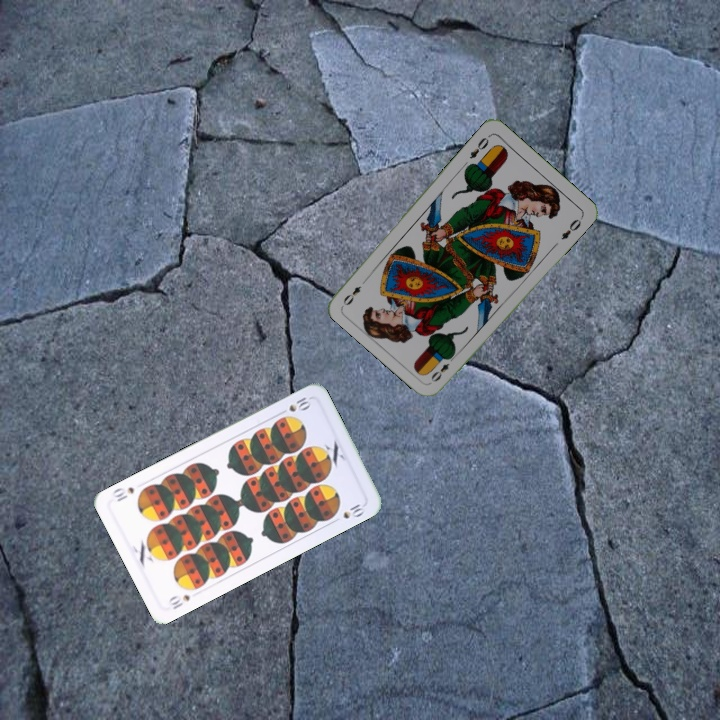EO: (427, 351, 458, 385), (465, 133, 492, 161)
S10: (284, 393, 314, 414), (165, 590, 192, 612)
